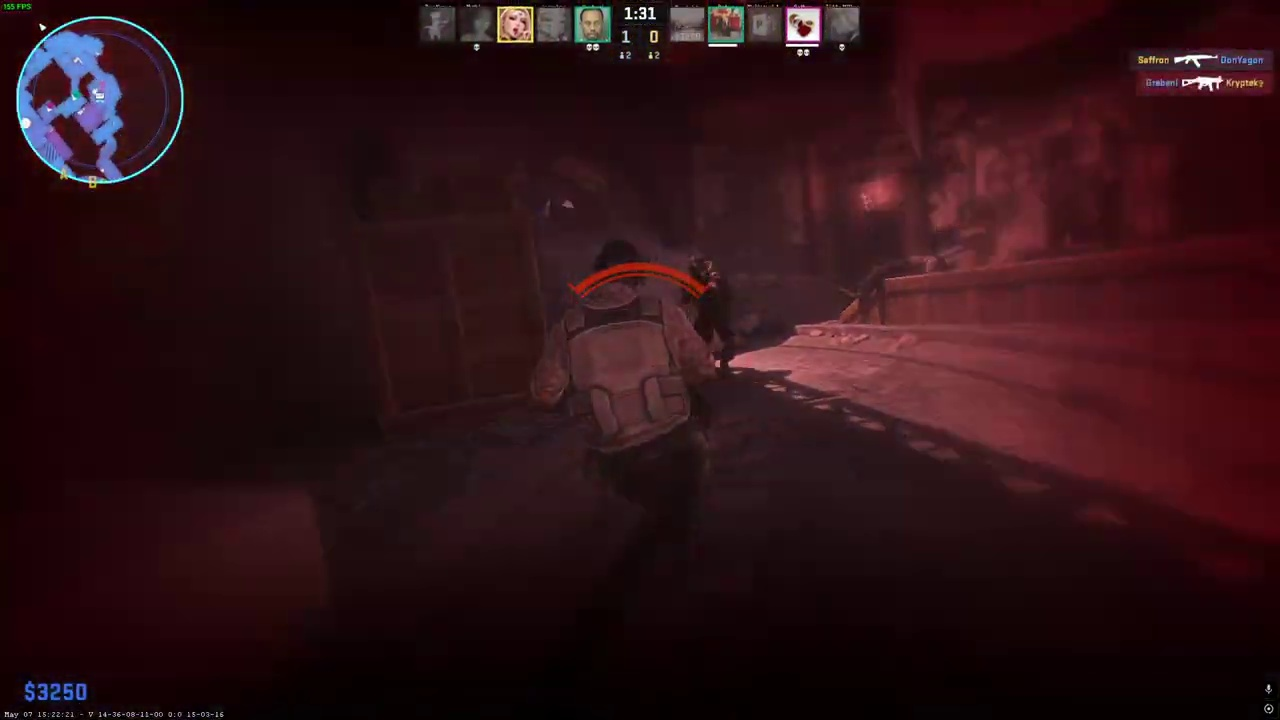CT: (690, 253, 737, 375)
